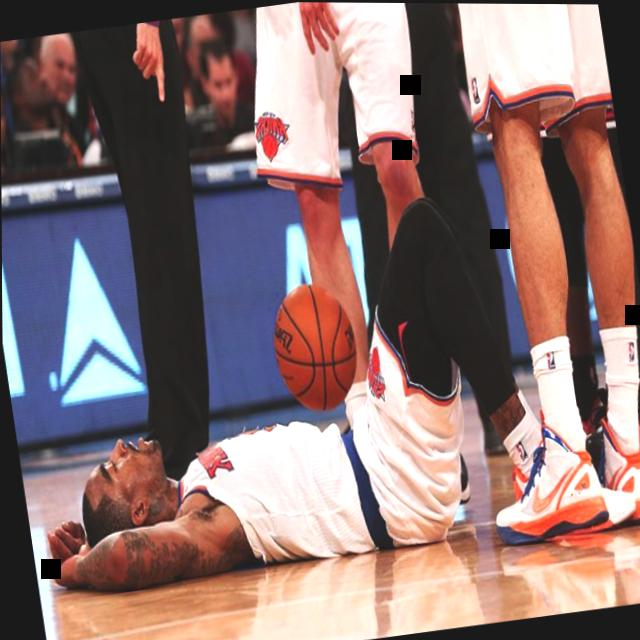Fall-Detected: (1, 179, 572, 629)
